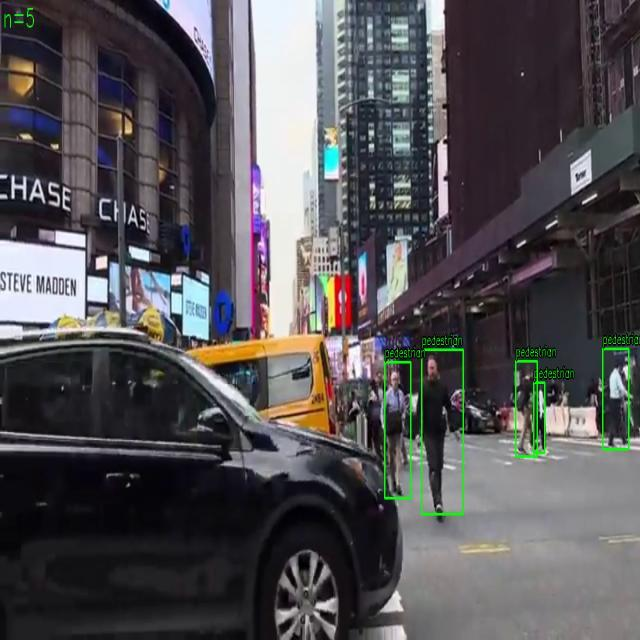with scooter: (422, 350, 464, 514), (384, 362, 412, 498), (602, 348, 630, 450), (516, 361, 538, 457), (533, 382, 545, 453)
